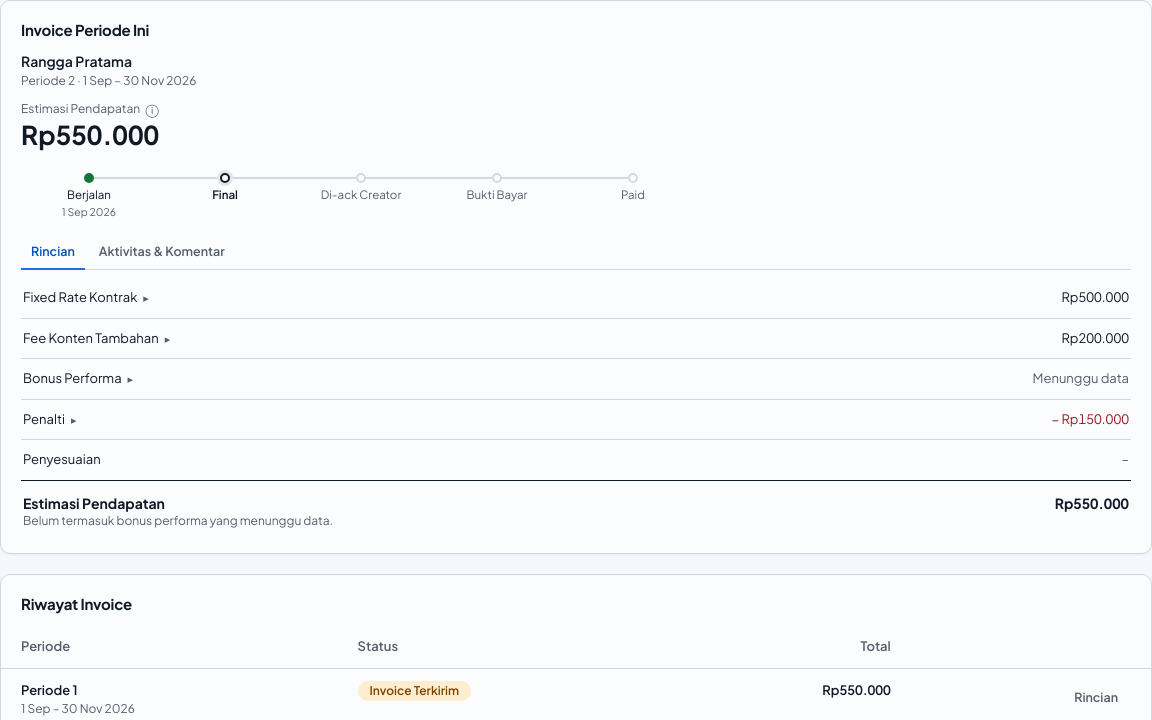
Test case: CreatorInvoices › the creator's moves › offers an earlier contract's move inside its Rincian too
Click the button with aria-label "Rincian invoice Periode 1": (1096, 698) [1061, 681, 1131, 714]
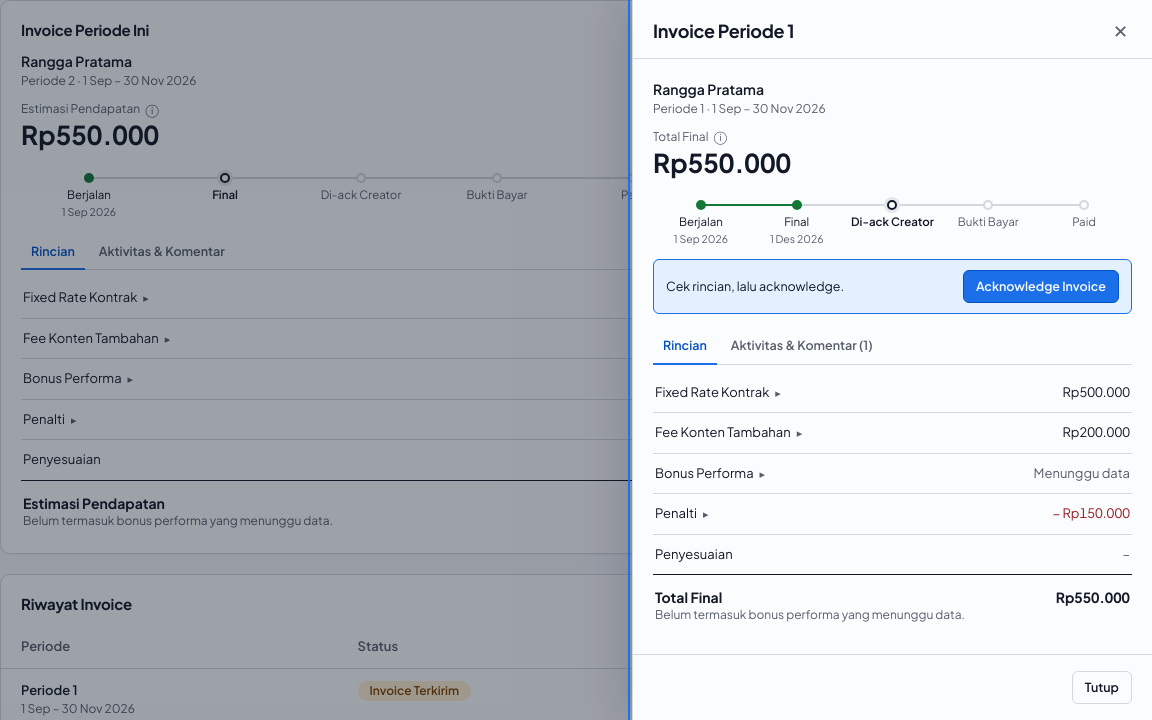
expect the button "Acknowledge Invoice" is shown: met, box [963, 270, 1119, 303]
